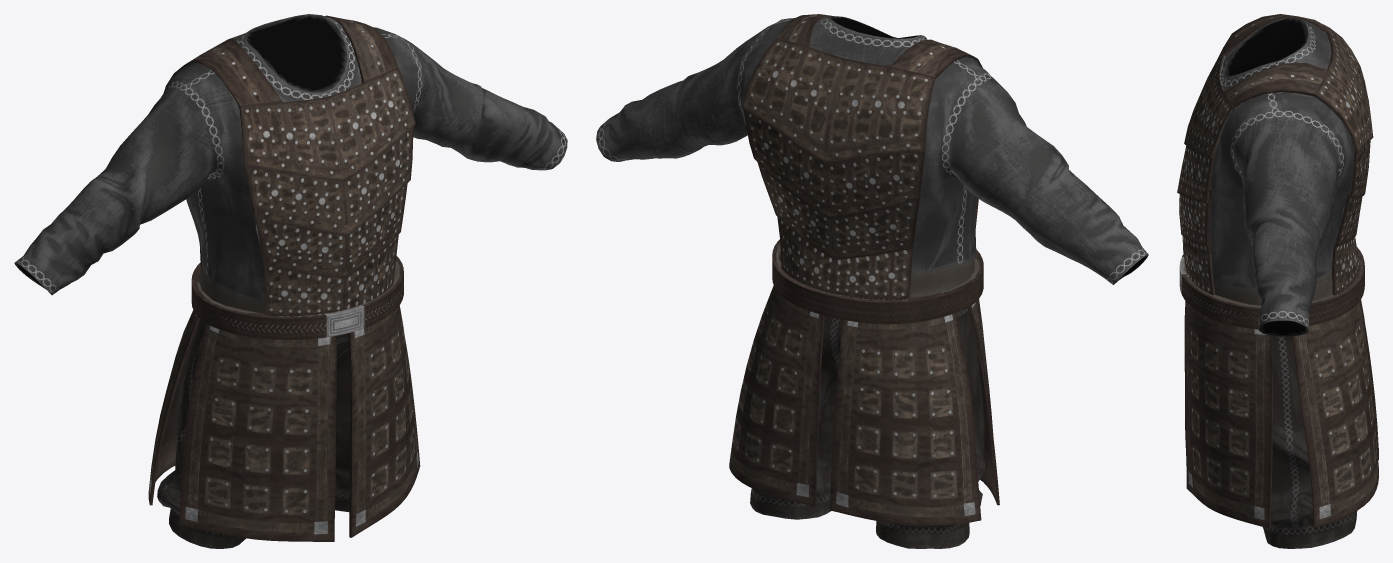
The model's file is sk_dwarf_erebor_chest_leather_light_a.fbx.
3 views of the same model, side by side, from view 1: azimuth 30°, elevation 25°; view 2: azimuth 150°, elevation 25°; view 3: azimuth 270°, elevation 25° (orthographic). The views are drawn at different scales.
Visible parts, largest first — view 1: sk_dwarf_erebor_chest_leather_light_a.0, sk_dwarf_erebor_chest_leather_light_a.1; view 2: sk_dwarf_erebor_chest_leather_light_a.0, sk_dwarf_erebor_chest_leather_light_a.1; view 3: sk_dwarf_erebor_chest_leather_light_a.0, sk_dwarf_erebor_chest_leather_light_a.1.
Part boxes in pixels (bbox=[...]): sk_dwarf_erebor_chest_leather_light_a.0: bbox=[14, 14, 567, 541]; sk_dwarf_erebor_chest_leather_light_a.1: bbox=[157, 319, 350, 548]; sk_dwarf_erebor_chest_leather_light_a.0: bbox=[596, 14, 1148, 525]; sk_dwarf_erebor_chest_leather_light_a.1: bbox=[750, 308, 984, 548]; sk_dwarf_erebor_chest_leather_light_a.0: bbox=[1177, 14, 1378, 528]; sk_dwarf_erebor_chest_leather_light_a.1: bbox=[1262, 335, 1357, 548].
Size of the model in its own units: 1.17 by 0.3958 by 1.02.
2 materials, 2 textured.
